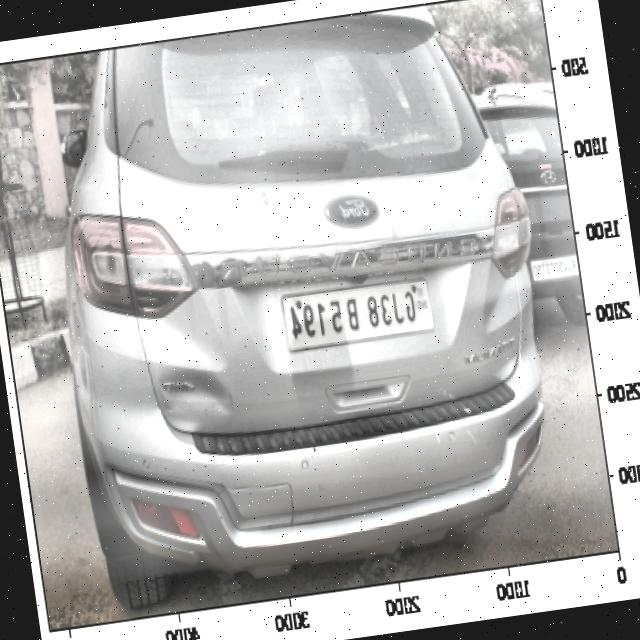license_plate: (282, 278, 428, 350), (528, 252, 582, 286)
